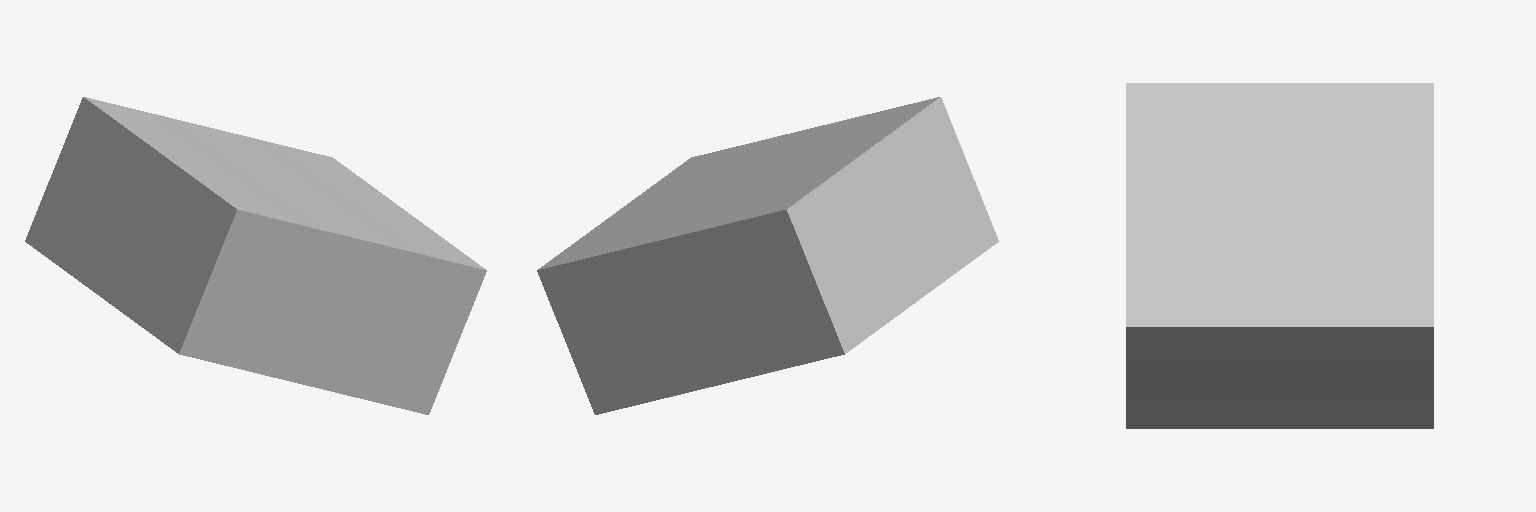
File: Build_A.obj
3 views of the same model, side by side, from view 1: azimuth 30°, elevation 25°; view 2: azimuth 150°, elevation 25°; view 3: azimuth 270°, elevation 25° (orthographic).
Visible parts, largest first — view 1: Build_A; view 2: Build_A; view 3: Build_A.
Boxes of the visible parts, <box> form: Build_A: <box>25,97,486,414</box>; Build_A: <box>537,97,998,414</box>; Build_A: <box>1126,83,1433,428</box>.
Bounding box in the file's own units: 0.3576 × 0.2802 × 0.3101.